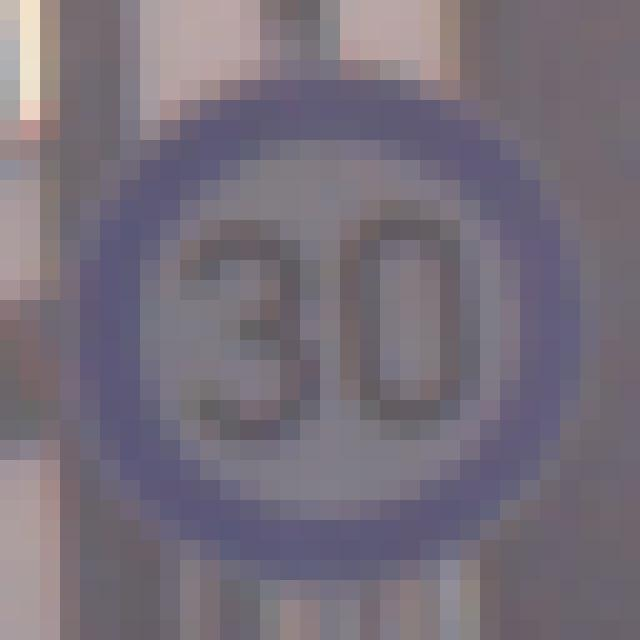SPEED LIMIT 30: (85, 85, 573, 580)
